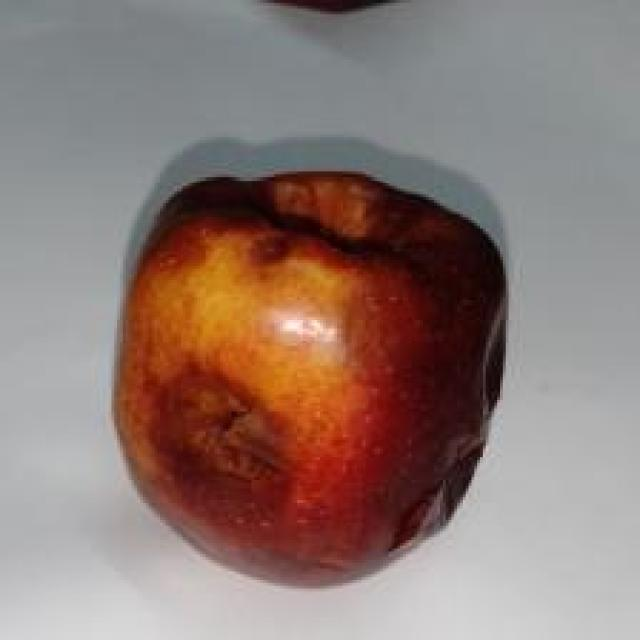rotten apple: (80, 116, 541, 617)
